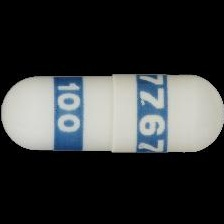68788-9274: (0, 0, 224, 224)
